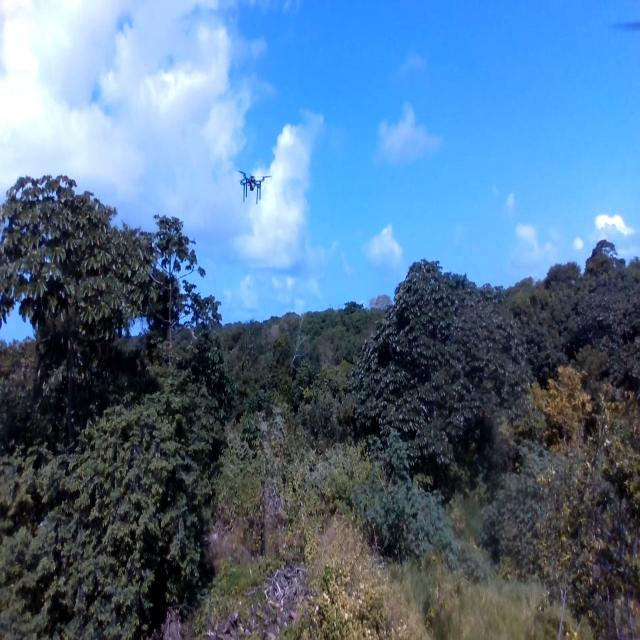-uav-: (233, 158, 274, 220)
